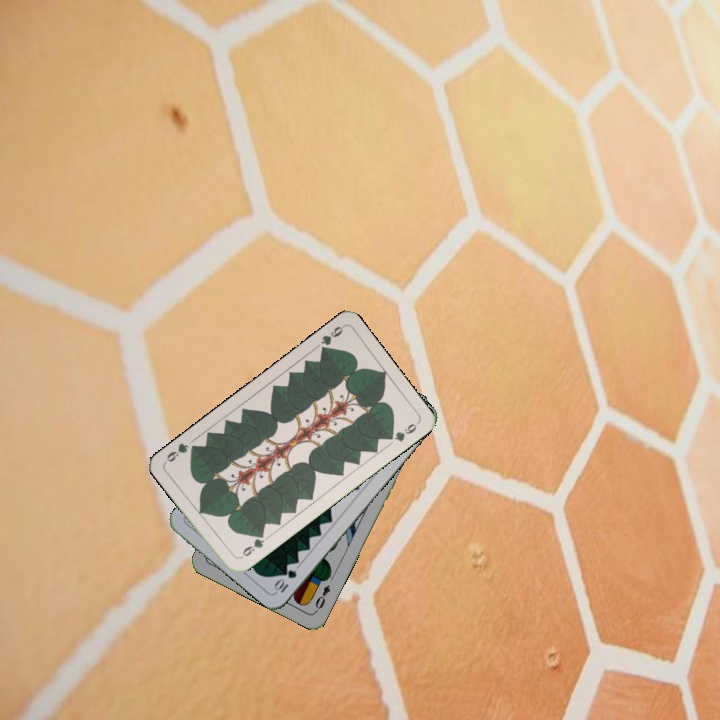EO: (311, 581, 333, 615)
G10: (270, 566, 300, 596)
G9: (316, 321, 346, 356), (235, 529, 267, 561)
